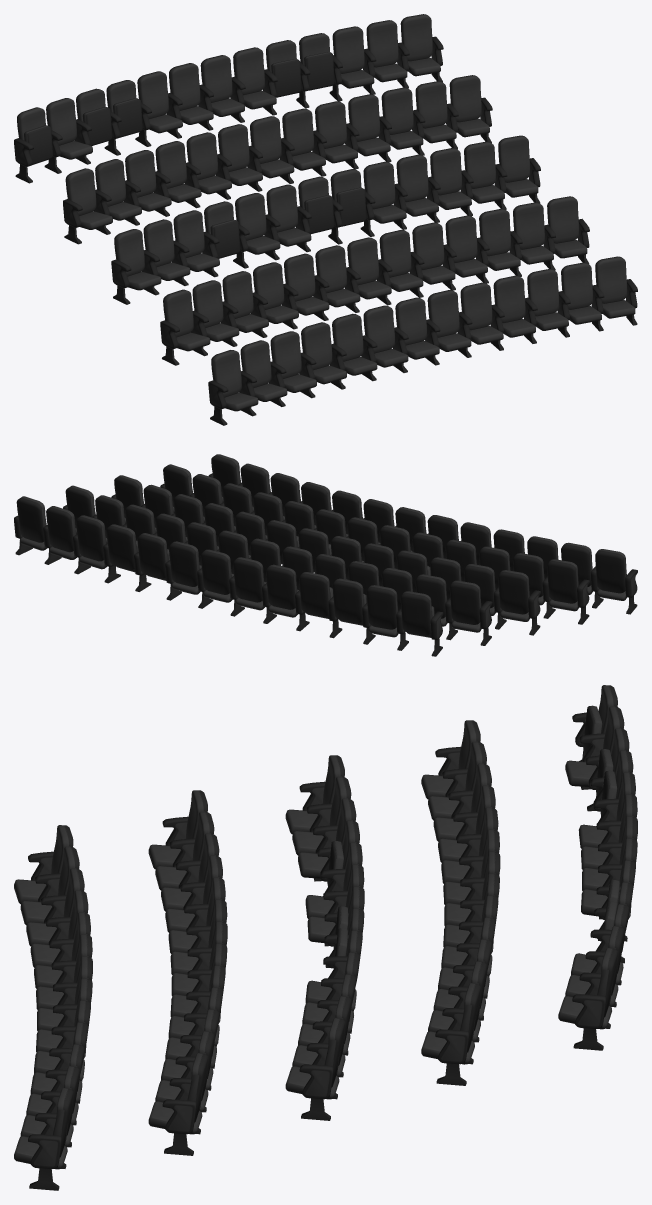
Rendered from CinemaArmChair03.FBX.
The picture shows the model from 3 angles, top to bottom: view 1: azimuth 30°, elevation 25°; view 2: azimuth 150°, elevation 25°; view 3: azimuth 270°, elevation 25°; orthographic projection. The views are drawn at different scales.
Parts seen in each view (by area): view 1: CinemaArmChair03; view 2: CinemaArmChair03; view 3: CinemaArmChair03.
Part boxes in pixels (box(x1,y1,x2,y2)): CinemaArmChair03: box(14, 14, 637, 425); CinemaArmChair03: box(14, 454, 637, 656); CinemaArmChair03: box(14, 685, 637, 1190).
Bounding box in the file's own units: 1124 × 409 × 1028.
